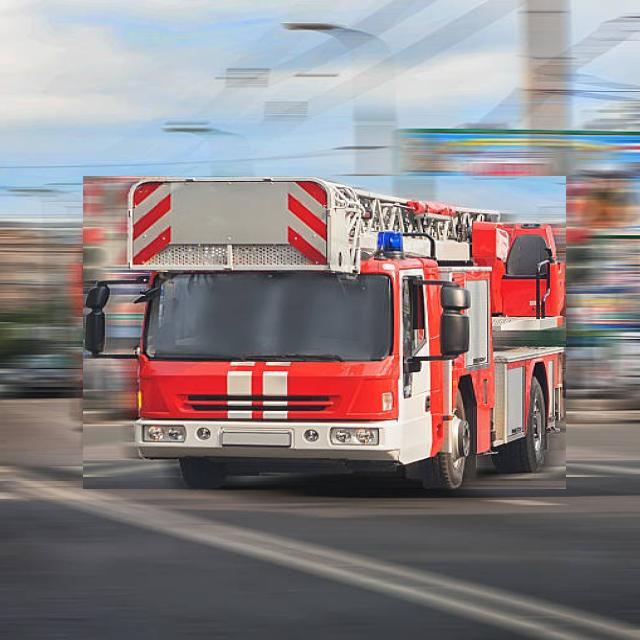emergency: (83, 176, 565, 489)
